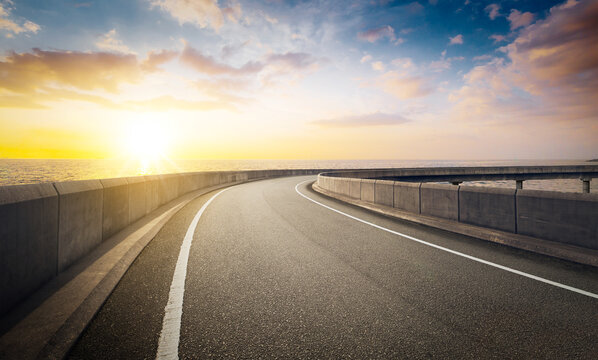rightTrun: (139, 146, 344, 290)
